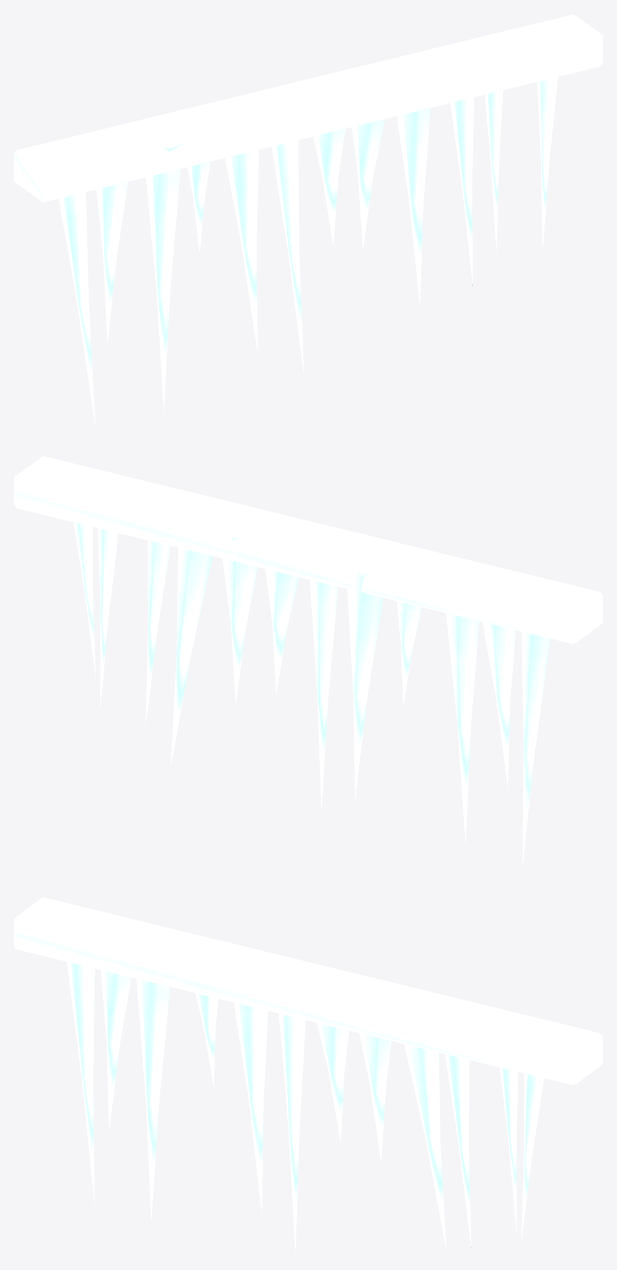
Rendered from icicle_fringe.gltf.
3 views of the same model, one above another, from view 1: azimuth 30°, elevation 25°; view 2: azimuth 150°, elevation 25°; view 3: azimuth 330°, elevation 25° (orthographic).
Parts seen in each view (by area): view 1: icicle_fringe; view 2: icicle_fringe; view 3: icicle_fringe.
Part boxes in pixels (x1,y1,x2,y2): icicle_fringe: (14, 14, 602, 425); icicle_fringe: (14, 456, 602, 867); icicle_fringe: (14, 897, 602, 1254).
Size of the model in its own units: 1.76 by 0.8475 by 0.1989.
1 material, 1 textured.
